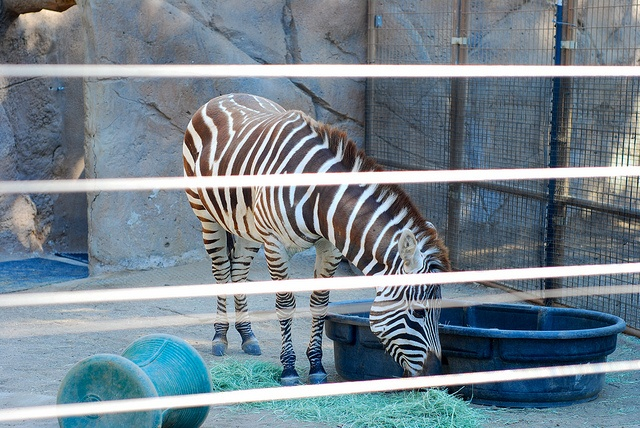zebra: (180, 90, 448, 386)
